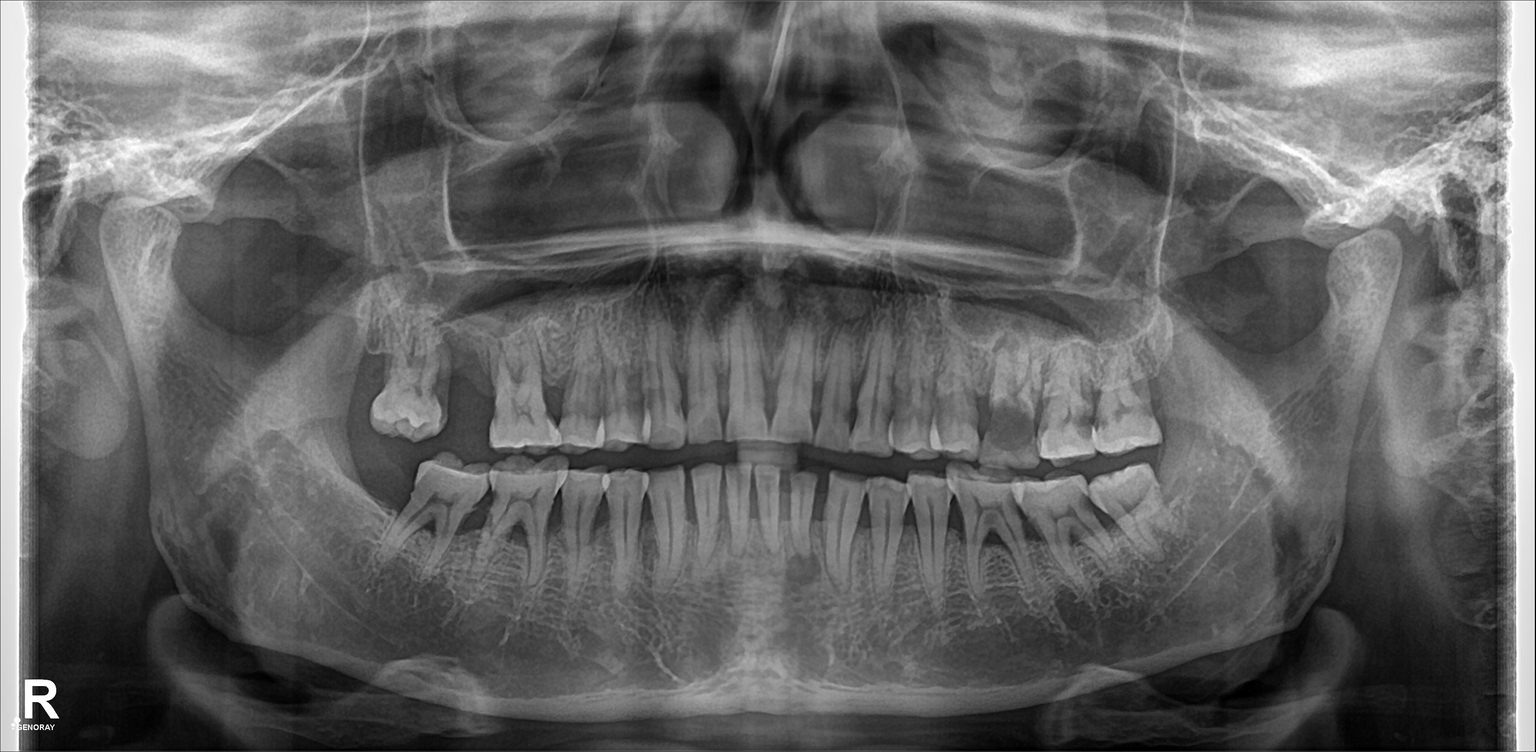Dental Caries: (985, 404, 1037, 448), (1075, 389, 1107, 436)
Missing Tooth: (438, 337, 496, 435), (359, 447, 411, 541)
